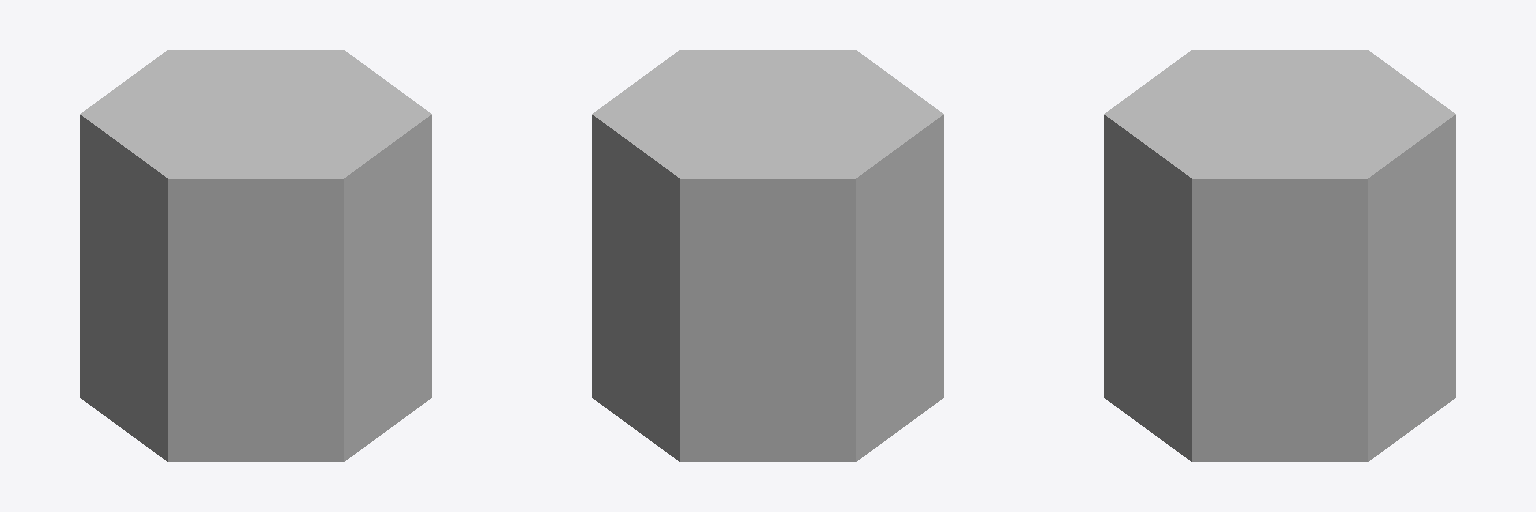
Rendered from hex.obj.
The picture shows the model from 3 angles: view 1: azimuth 30°, elevation 25°; view 2: azimuth 150°, elevation 25°; view 3: azimuth 270°, elevation 25°; orthographic projection.
Visible parts, largest first — view 1: Cylinder.001_Cylinder.002; view 2: Cylinder.001_Cylinder.002; view 3: Cylinder.001_Cylinder.002.
Boxes of the visible parts, box(x1,y1,x2,y2) form: Cylinder.001_Cylinder.002: box(80, 50, 431, 461); Cylinder.001_Cylinder.002: box(592, 50, 943, 461); Cylinder.001_Cylinder.002: box(1104, 50, 1455, 461).
Size of the model in its own units: 1.95 by 2 by 2.25.